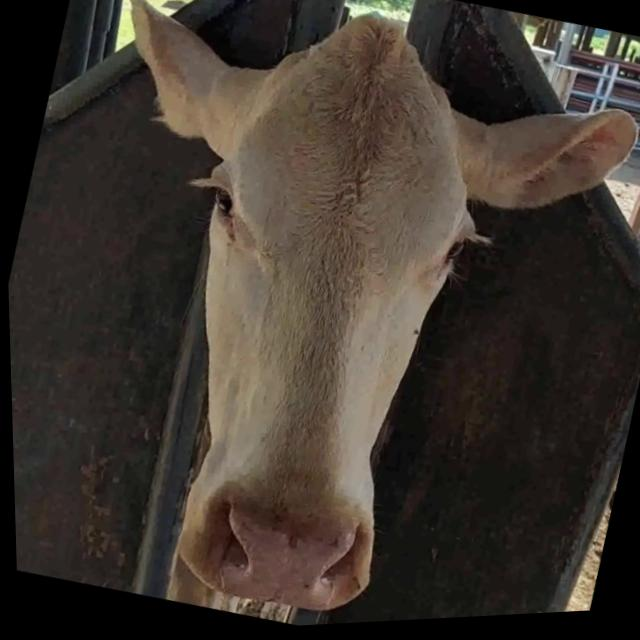cowFace: (111, 0, 521, 635)
